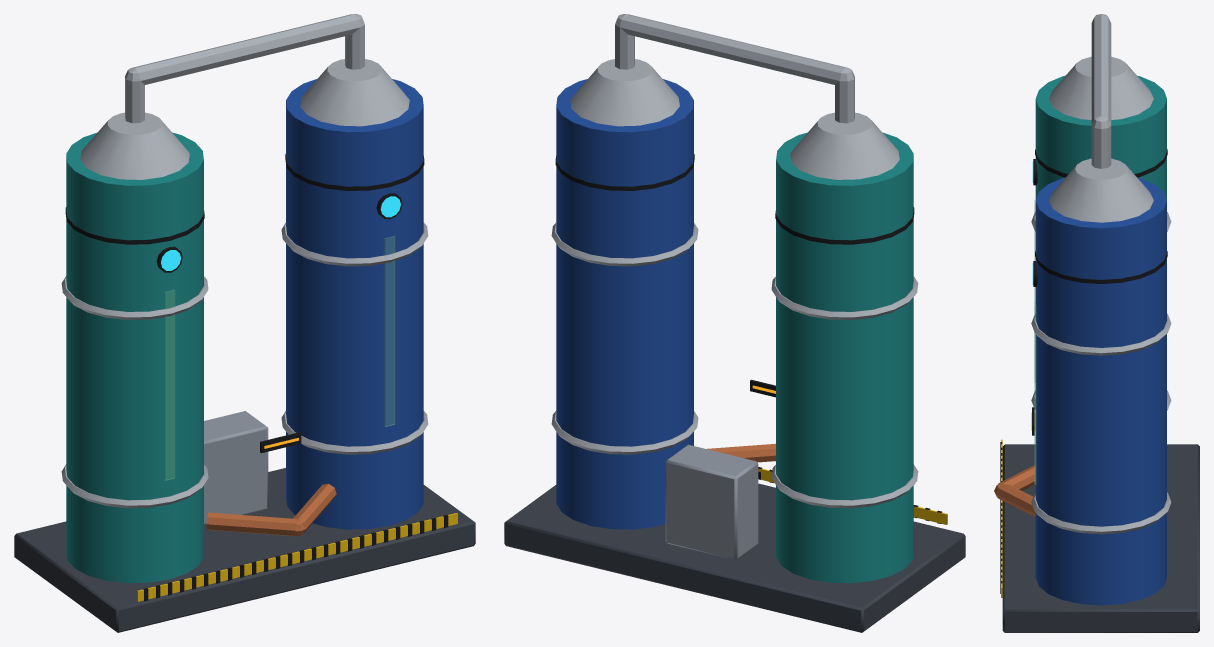
File: scrubber_twin_amine_scrubber.glb
3 views of the same model, side by side, from view 1: azimuth 30°, elevation 25°; view 2: azimuth 150°, elevation 25°; view 3: azimuth 270°, elevation 25° (orthographic). The views are drawn at different scales.
Parts seen in each view (by area): view 1: scrubber_twin_amine_scrubber; view 2: scrubber_twin_amine_scrubber; view 3: scrubber_twin_amine_scrubber.
Boxes of the visible parts, bbox=[...] form: scrubber_twin_amine_scrubber: bbox=[14, 14, 475, 632]; scrubber_twin_amine_scrubber: bbox=[504, 14, 965, 632]; scrubber_twin_amine_scrubber: bbox=[994, 14, 1199, 632].
Bounding box in the file's own units: 1.8 × 2.44 × 0.94.
